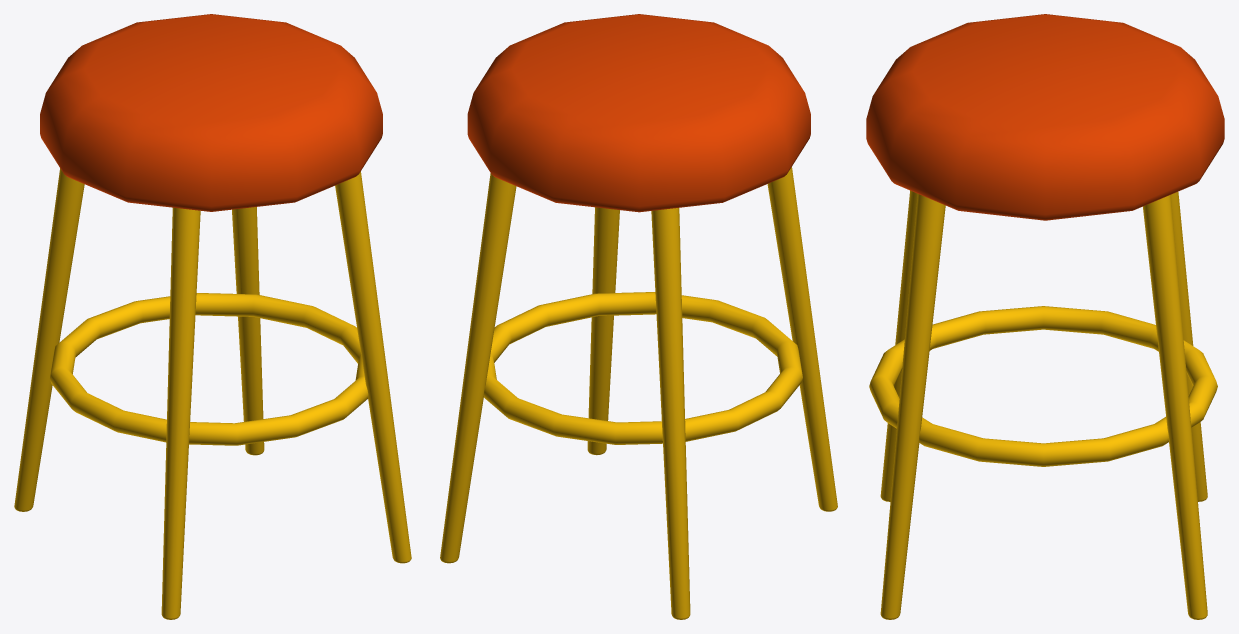
File: Chair_7V.fbx
The picture shows the model from 3 angles, left to right: view 1: azimuth 30°, elevation 25°; view 2: azimuth 150°, elevation 25°; view 3: azimuth 270°, elevation 25°; orthographic projection. The views are drawn at different scales.
Parts seen in each view (by area): view 1: Chair_7V; view 2: Chair_7V; view 3: Chair_7V.
Boxes of the visible parts, x1,y1,x2,y2 form: Chair_7V: [14, 14, 411, 619]; Chair_7V: [440, 14, 837, 619]; Chair_7V: [866, 14, 1224, 619].
Size of the model in its own units: 0.5196 by 0.7787 by 0.5196.
